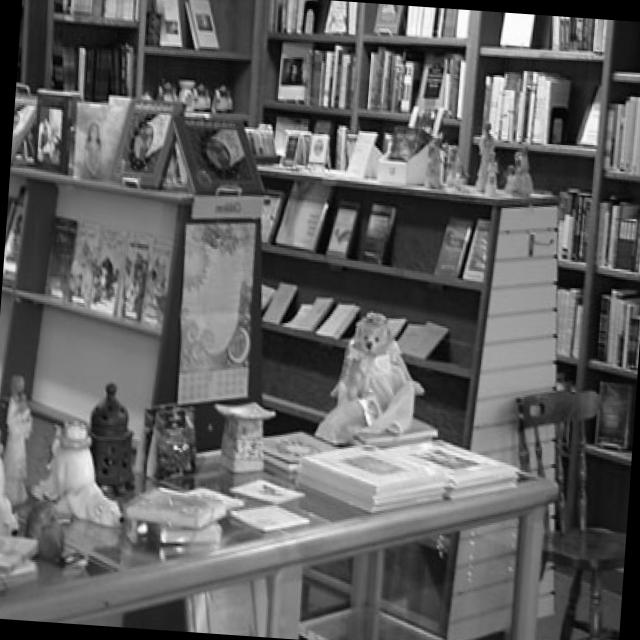book case: (174, 112, 268, 190), (107, 96, 187, 186), (277, 179, 337, 247), (36, 88, 79, 173), (75, 103, 121, 178), (438, 214, 475, 276), (362, 205, 397, 263), (328, 202, 362, 258), (186, 0, 220, 48), (318, 302, 361, 336), (295, 296, 334, 331), (265, 280, 298, 320)
bookcase crop: (16, 0, 640, 588)
books crop: (301, 443, 446, 514), (380, 433, 517, 499), (481, 66, 571, 143), (128, 483, 229, 540), (368, 40, 423, 110), (597, 288, 640, 368), (599, 193, 640, 270), (309, 41, 356, 107), (606, 94, 640, 172)
calendar: (177, 221, 257, 403)
chair occluded: (509, 388, 624, 640)
cuddly toy occluded: (328, 313, 414, 443)
floor -X: (465, 556, 623, 640)
showcase occluded: (253, 158, 558, 640)
snowcase occluded: (0, 143, 269, 631)
table -X: (0, 419, 561, 640)
